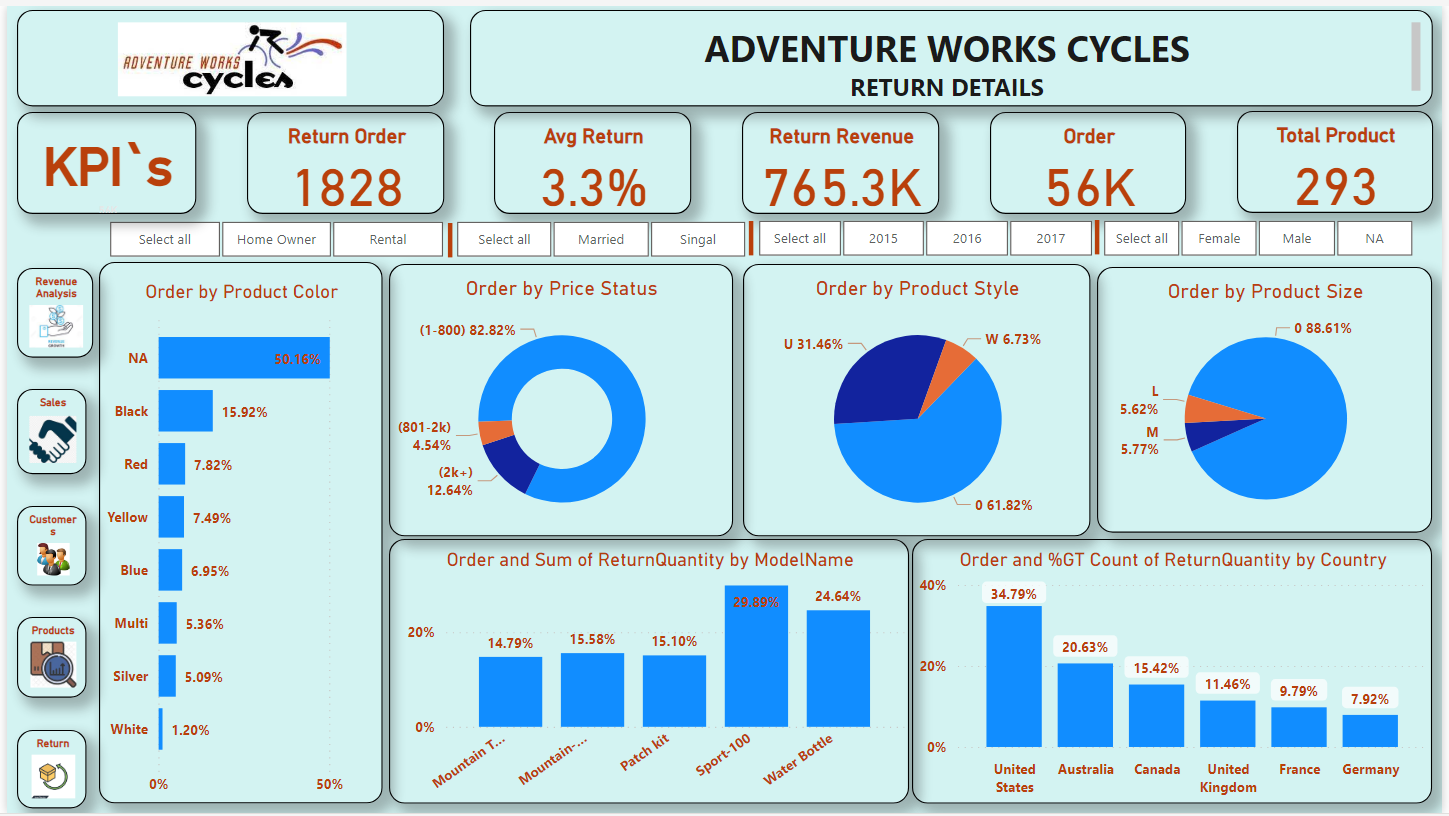

Layout of this report page (visuals, bound fields, positions):
{"tool":"powerbi","page":{"name":"Return","canvas":[1280,720],"ordinal":4},"visuals":[{"type":"card","title":"Return Revenue","fields":{"Values":["All Measures.Return Revenue"]},"box":[655.8,94.5,176.3,91.1],"z":0},{"type":"card","title":"Order","fields":{"Values":["All Measures.Total Order"]},"box":[876.8,94.5,175.4,91.1],"z":1000},{"type":"card","title":"Return Order","fields":{"Values":["All Measures.Return Order"]},"box":[213.8,94.5,176.3,91.1],"z":2000},{"type":"card","title":"Avg Return","fields":{"Values":["All Measures.Avg Return"]},"box":[434.8,94.5,176.3,91.1],"z":3000},{"type":"card","title":"Total Product","fields":{"Values":["All Measures.Total Product"]},"box":[1097.3,93.3,174.9,91.4],"z":4000},{"type":"lineStackedColumnComboChart","title":"Order and Sum of ReturnQuantity by ModelName","fields":{"Category":["D_Product.ModelName"],"Y":["Sum(F_Return.ReturnQuantity)"]},"box":[340.7,475.8,464.4,235.6],"z":5000},{"type":"donutChart","title":"Order by Price Status","fields":{"Category":["D_Product.Price Status"],"Y":["Sum(F_Return.ReturnQuantity)"]},"box":[340.7,230.2,306.7,243.3],"z":6000},{"type":"barChart","title":"Order by Product Color","fields":{"Category":["D_Product.ProductColor"],"Y":["Sum(F_Return.ReturnQuantity)"]},"box":[81.7,228.5,252.9,482.9],"z":7000},{"type":"lineStackedColumnComboChart","title":"Order and %GT Count of ReturnQuantity by Country","fields":{"Category":["D_Territe.Country"],"Y":["Sum(F_Return.ReturnQuantity)"]},"box":[807.8,475.8,464.4,235.6],"z":8000},{"type":"pieChart","title":"Order by Product Size","fields":{"Category":["D_Product.ProductSize"],"Y":["Sum(F_Return.ReturnQuantity)"]},"box":[972.9,233.3,299.3,237.1],"z":9000},{"type":"pieChart","title":"Order by Product Style","fields":{"Category":["D_Product.ProductStyle"],"Y":["Sum(F_Return.ReturnQuantity)"]},"box":[656.2,230.2,310,243.3],"z":10000},{"type":"textbox","box":[413.1,3.9,859.2,85.5],"z":12000},{"type":"image","title":"Products","box":[8.7,545.5,62.4,72.3],"z":13000},{"type":"image","title":"Revenue Analysis","box":[8.7,233.5,68.4,80.2],"z":14000},{"type":"image","title":"Return","box":[8.7,645.9,62.4,70.3],"z":15000},{"type":"image","title":"Sales","box":[8.7,341.8,62.4,76.3],"z":16000},{"type":"image","title":"Customers","box":[8.7,446.1,62.4,71.3],"z":17000},{"type":"slicer","fields":{"Values":["D_Customer.MaritalStatus"]},"box":[375.5,185.3,307.1,44.6],"z":18000},{"type":"slicer","fields":{"Values":["D_Customer.HomeOwner"]},"box":[66.4,185.3,346.7,44.6],"z":19000},{"type":"slicer","fields":{"Values":["D_Customer.Gender"]},"box":[953.1,184.3,325,44.6],"z":20000},{"type":"slicer","fields":{"Values":["D_Calender.Year"]},"box":[645,184.3,346.7,44.6],"z":21000},{"type":"image","box":[8.7,3.9,381,85.5],"z":22000},{"type":"shape","box":[376.7,193.2,37.8,30.7],"z":23000},{"type":"shape","box":[954.1,191.2,37.6,30.7],"z":24000},{"type":"shape","box":[645,192.2,37.6,30.7],"z":25000},{"type":"card","title":"KPI`s","fields":{"Values":["All Measures.Total Order"]},"box":[8.7,94.3,160.4,91.4],"z":26000}]}

Visuals, with their boxes in screenshot pixels (x1, y1, x2, y2), scaled from the page's 1280x720 canvas onto the 1449x816 screenshot:
"Return Revenue" card: select_region(742, 107, 942, 210)
"Order" card: select_region(993, 107, 1191, 210)
"Return Order" card: select_region(242, 107, 442, 210)
"Avg Return" card: select_region(492, 107, 692, 210)
"Total Product" card: select_region(1242, 106, 1440, 209)
"Order and Sum of ReturnQuantity by ModelName" lineStackedColumnComboChart: select_region(386, 539, 911, 806)
"Order by Price Status" donutChart: select_region(386, 261, 733, 537)
"Order by Product Color" barChart: select_region(92, 259, 379, 806)
"Order and %GT Count of ReturnQuantity by Country" lineStackedColumnComboChart: select_region(914, 539, 1440, 806)
"Order by Product Size" pieChart: select_region(1101, 264, 1440, 533)
"Order by Product Style" pieChart: select_region(743, 261, 1094, 537)
textbox: select_region(468, 4, 1440, 101)
"Products" image: select_region(10, 618, 80, 700)
"Revenue Analysis" image: select_region(10, 265, 87, 356)
"Return" image: select_region(10, 732, 80, 812)
"Sales" image: select_region(10, 387, 80, 474)
"Customers" image: select_region(10, 506, 80, 586)
slicer - D_Customer.MaritalStatus: select_region(425, 210, 773, 261)
slicer - D_Customer.HomeOwner: select_region(75, 210, 468, 261)
slicer - D_Customer.Gender: select_region(1079, 209, 1447, 259)
slicer - D_Calender.Year: select_region(730, 209, 1123, 259)
image: select_region(10, 4, 441, 101)
shape: select_region(426, 219, 469, 254)
shape: select_region(1080, 217, 1123, 251)
shape: select_region(730, 218, 773, 253)
"KPI`s" card: select_region(10, 107, 191, 210)
